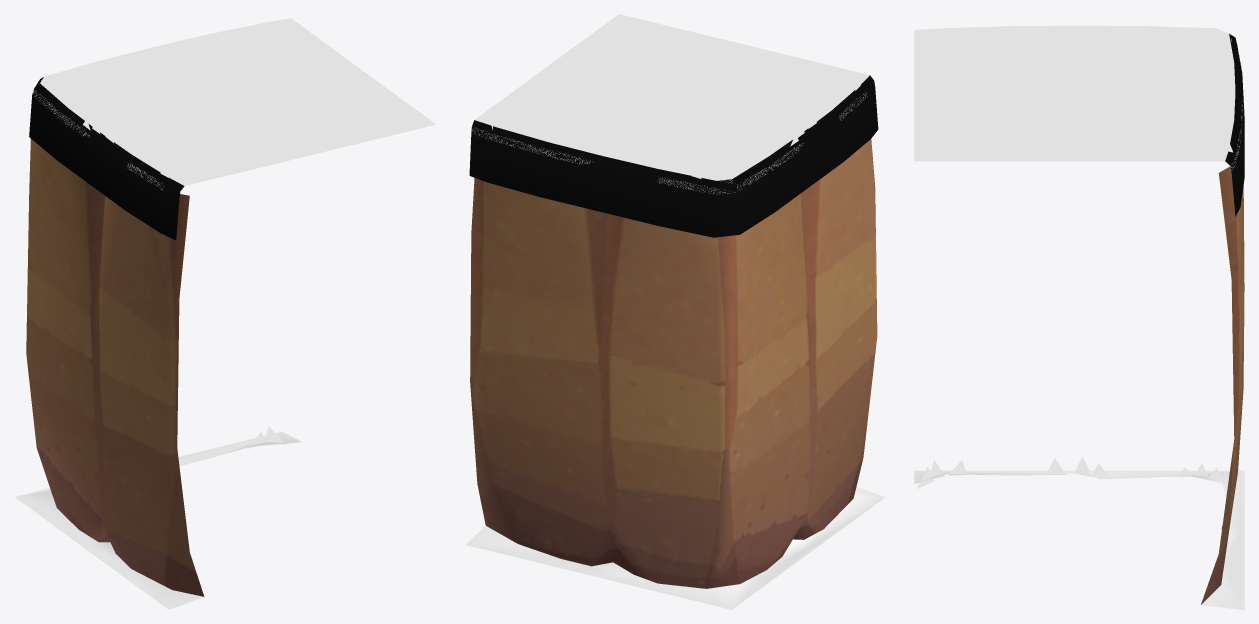
The picture shows the model from 3 angles, left to right: view 1: azimuth 30°, elevation 25°; view 2: azimuth 150°, elevation 25°; view 3: azimuth 270°, elevation 25°; orthographic projection. The views are drawn at different scales.
Visible parts, largest first — view 1: Cliff__mCliff, GrassT__mGrass, GrassOP__mGrassCliffXlu, GrassB__mGrass, PGrassBA__mProcGrass; view 2: Cliff__mCliff, GrassT__mGrass, GrassOP__mGrassCliffXlu, GrassB__mGrass; view 3: GrassT__mGrass, Cliff__mCliff, GrassB__mGrass, GrassOP__mGrassCliffXlu, PGrassBA__mProcGrass.
Part boxes in pixels (x1,y1,x2,y2): Cliff__mCliff: (26, 139, 204, 596); GrassT__mGrass: (33, 18, 435, 190); GrassOP__mGrassCliffXlu: (29, 77, 184, 240); GrassB__mGrass: (15, 431, 301, 609); PGrassBA__mProcGrass: (46, 83, 286, 448); Cliff__mCliff: (470, 139, 877, 588); GrassT__mGrass: (472, 14, 869, 194); GrassOP__mGrassCliffXlu: (469, 75, 878, 237); GrassB__mGrass: (465, 486, 885, 609); GrassT__mGrass: (914, 25, 1242, 167); Cliff__mCliff: (1201, 166, 1244, 604); GrassB__mGrass: (914, 470, 1244, 609); GrassOP__mGrassCliffXlu: (1225, 33, 1244, 216); PGrassBA__mProcGrass: (917, 38, 1233, 488).
Size of the model in its own units: 10 by 15.41 by 10.
4 materials, 1 textured.
